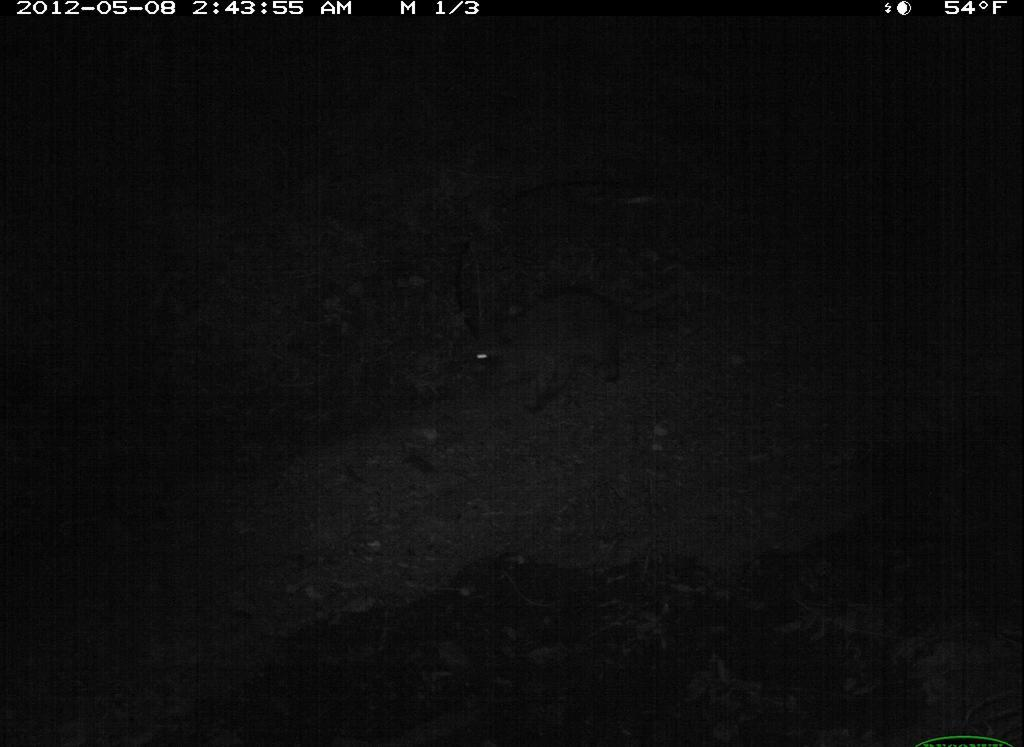raccoon: (470, 274, 637, 420)
